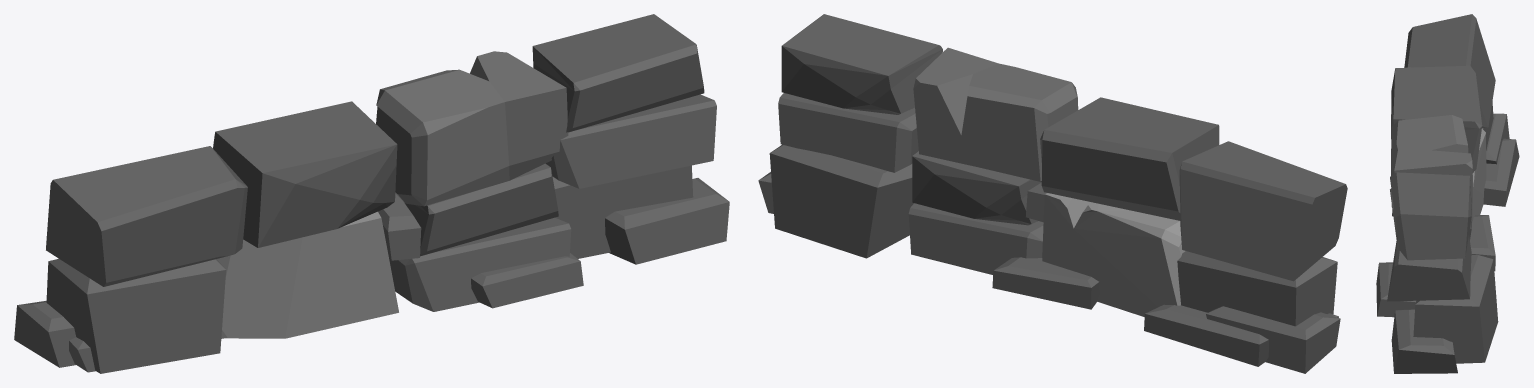
The model's file is EM_rock_fence6.fbx.
The picture shows the model from 3 angles, left to right: view 1: azimuth 30°, elevation 25°; view 2: azimuth 150°, elevation 25°; view 3: azimuth 270°, elevation 25°; orthographic projection. The views are drawn at different scales.
Visible parts, largest first — view 1: EM_rock_fence6_LOD0; view 2: EM_rock_fence6_LOD0; view 3: EM_rock_fence6_LOD0.
Boxes of the visible parts, x1,y1,x2,y2 form: EM_rock_fence6_LOD0: (14, 14, 729, 373); EM_rock_fence6_LOD0: (758, 14, 1347, 373); EM_rock_fence6_LOD0: (1376, 14, 1519, 373).
Size of what is drawn, in the model's own units: 2.97 by 0.8728 by 0.7521.
